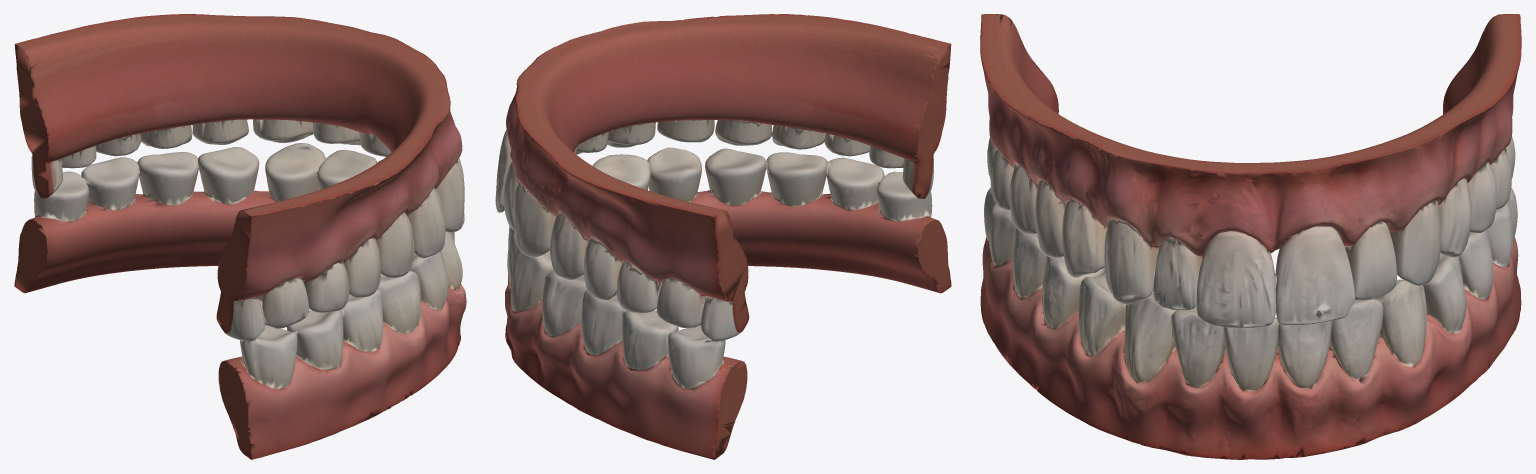
The model's file is tooth-lite.glb.
The picture shows the model from 3 angles, left to right: view 1: azimuth 30°, elevation 25°; view 2: azimuth 150°, elevation 25°; view 3: azimuth 270°, elevation 25°; orthographic projection. The views are drawn at different scales.
Parts seen in each view (by area): view 1: tripo_node_af331bae-d15a-4877-8706-48aa43e92348; view 2: tripo_node_af331bae-d15a-4877-8706-48aa43e92348; view 3: tripo_node_af331bae-d15a-4877-8706-48aa43e92348.
Part boxes in pixels (x1,y1,x2,y2): tripo_node_af331bae-d15a-4877-8706-48aa43e92348: (14, 14, 466, 459); tripo_node_af331bae-d15a-4877-8706-48aa43e92348: (495, 14, 951, 459); tripo_node_af331bae-d15a-4877-8706-48aa43e92348: (980, 14, 1521, 459).
Size of the model in its own units: 0.7432 by 0.5594 by 0.9798.
1 material, 1 textured.
